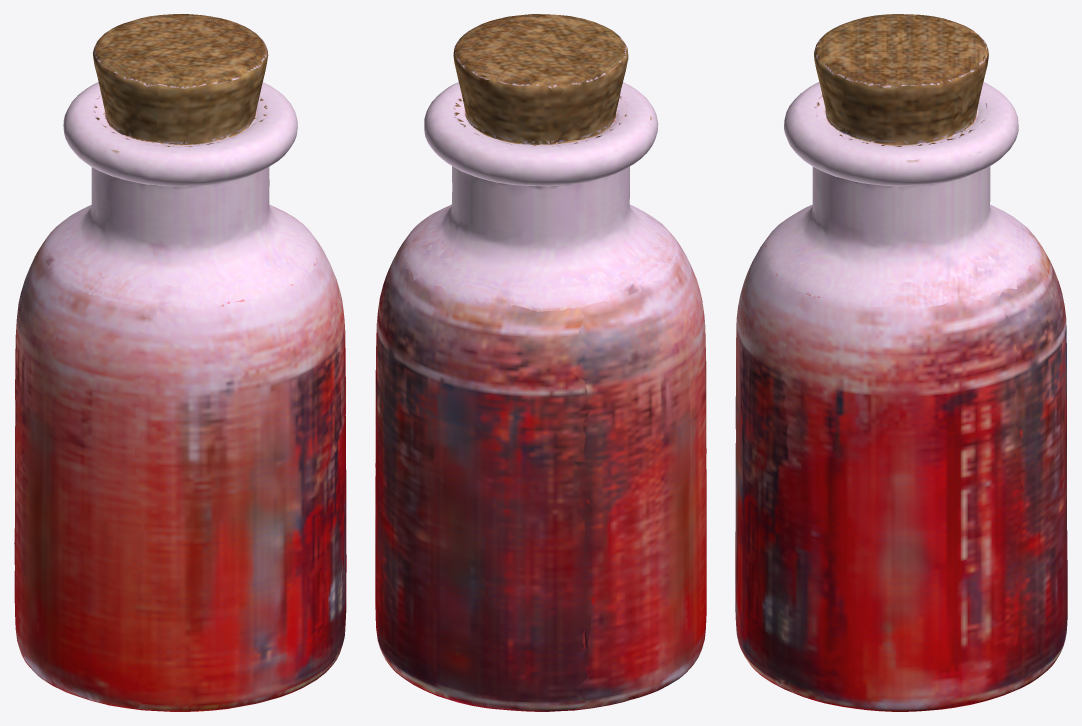
File: potion.glb
3 renders of one model, left to right at view 1: azimuth 30°, elevation 25°; view 2: azimuth 150°, elevation 25°; view 3: azimuth 270°, elevation 25°, orthographic.
Size of the model in its own units: 0.5037 by 1 by 0.5035.
1 material, 1 textured.
